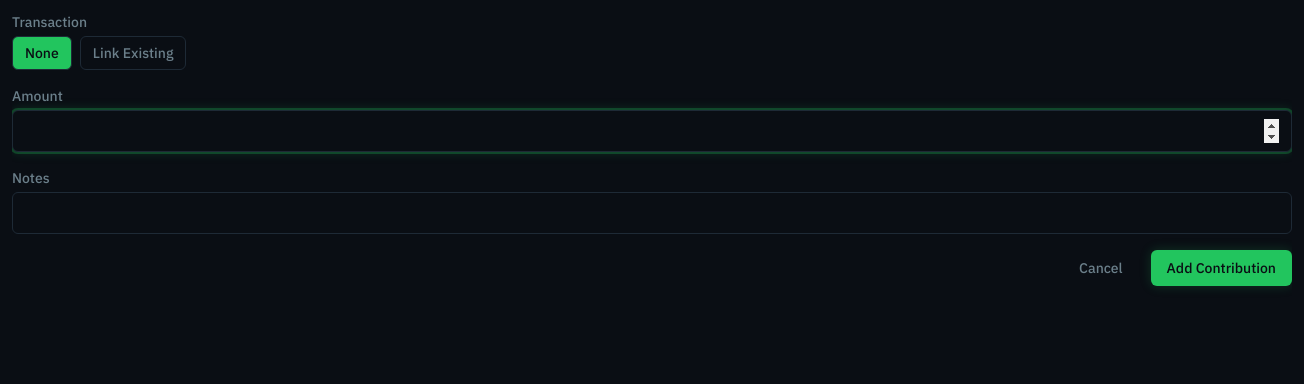
Test case: ContributeForm › shows transaction selector when Link Existing is clicked
Click the button "Link Existing" at point(133, 53), box [80, 36, 186, 70]
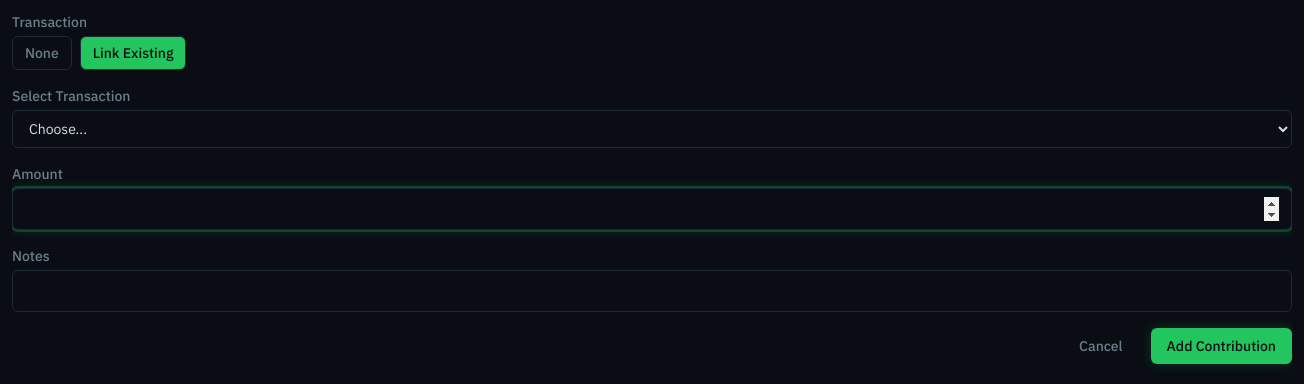
Check: the dropdown labelled "Select Transaction" is shown, box [12, 110, 1292, 148]
